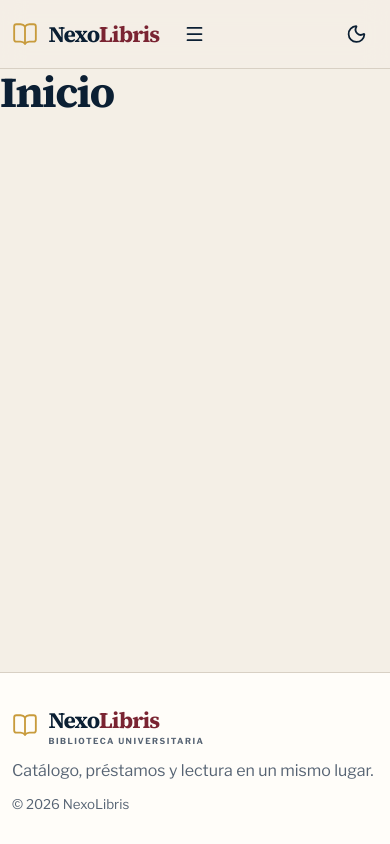
Scenario: AppLayout › ofrece inicio de sesión dentro del menú móvil
What coordinates should you click on to do the following:
click the button named "Abrir menú"
I would click on:
 (194, 34)
Its box is 172,12 -> 216,56.
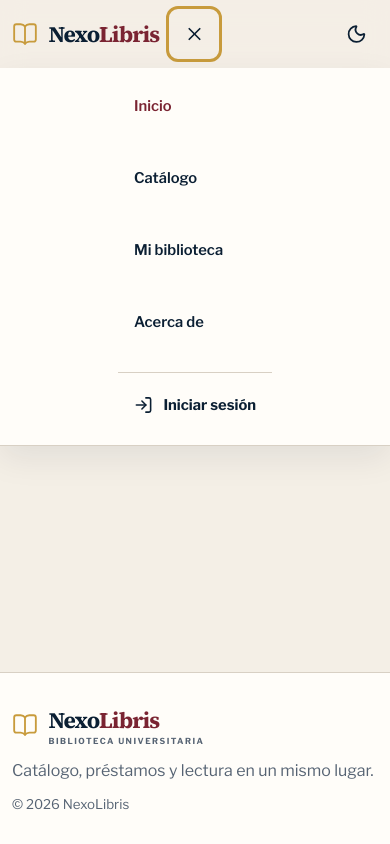
Now the number of links "Iniciar sesión" is 2
